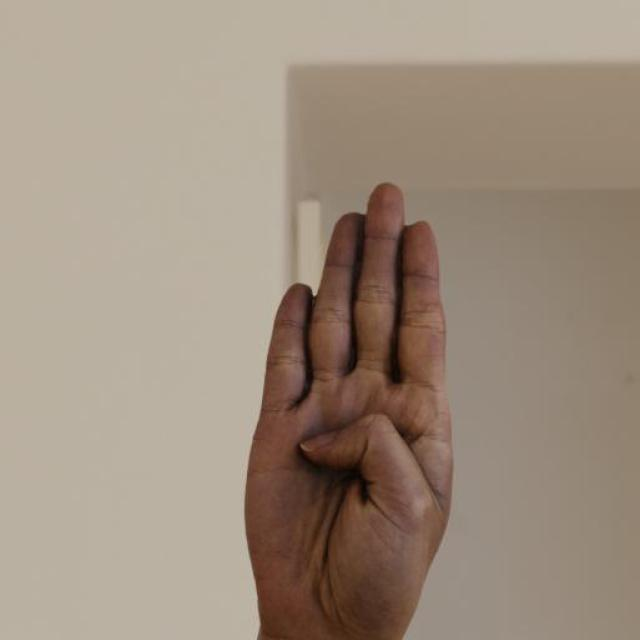B: (238, 177, 457, 618)
